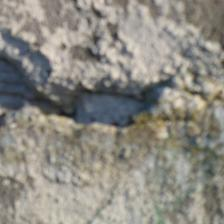Crack: (2, 18, 147, 115)
